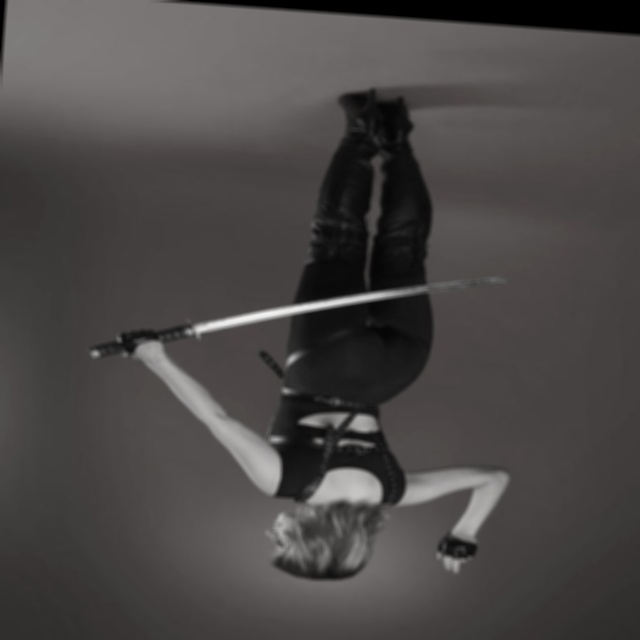Sharp-Object: (86, 242, 520, 393)
